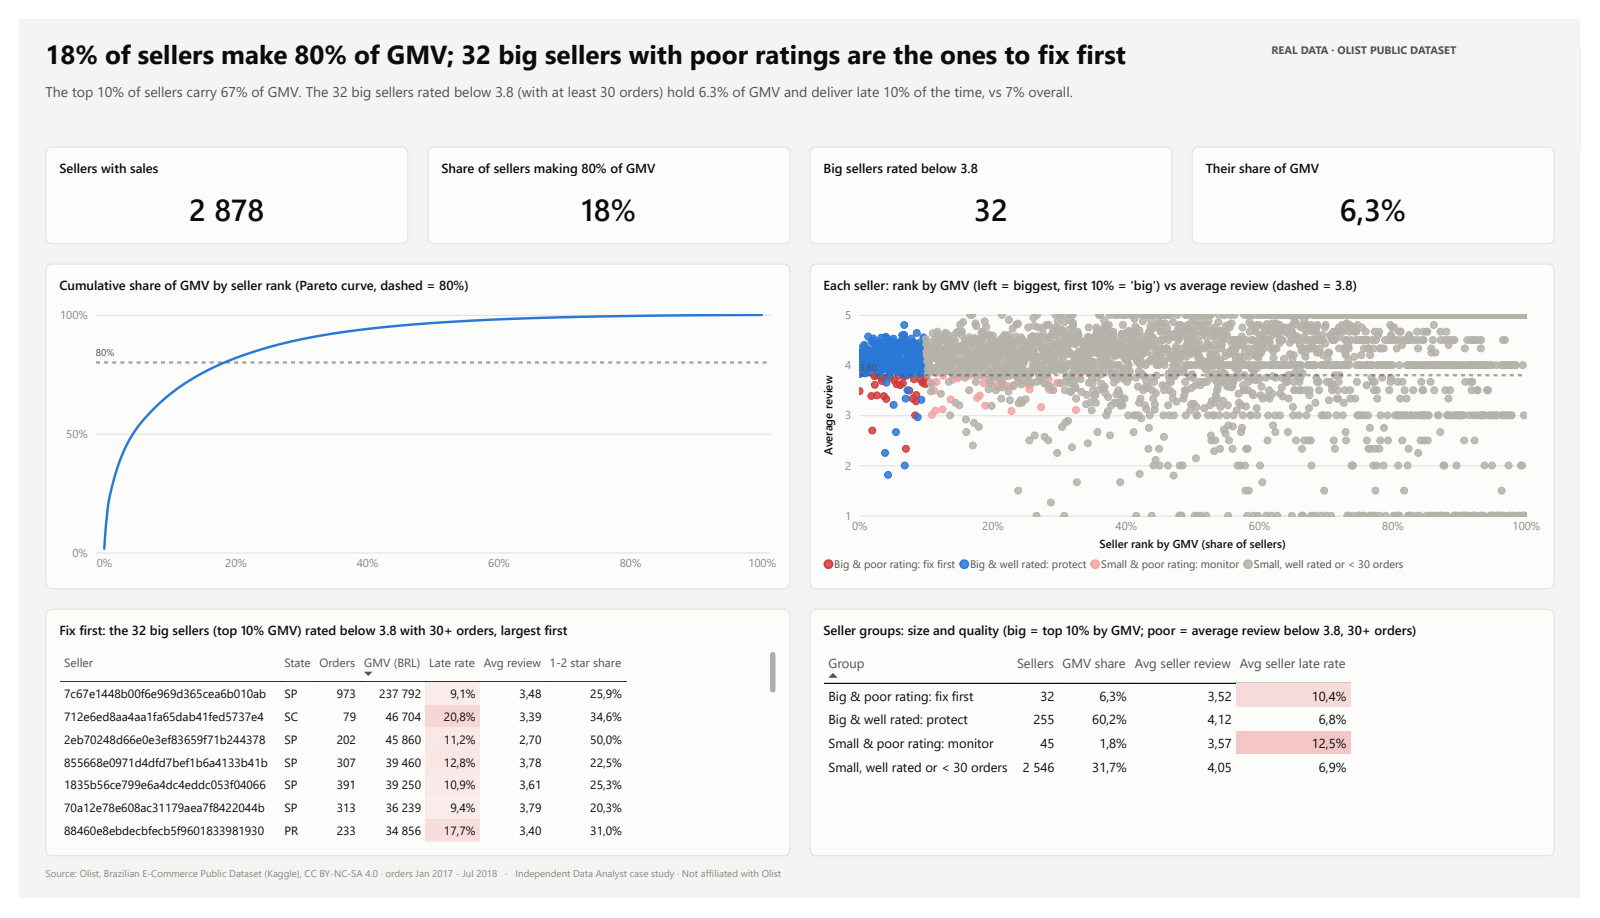

Layout of this report page (visuals, bound fields, positions):
{"tool":"powerbi","page":{"name":"3 · Sellers","canvas":[1920,1080],"ordinal":3},"visuals":[{"type":"textbox","box":[32,20,1500,56],"z":1000},{"type":"textbox","box":[1540,28,348,40],"z":2000},{"type":"textbox","box":[32,76,1856,64],"z":3000},{"type":"card","title":"Sellers with sales","fields":{"Values":["_Measures.Active Sellers"]},"box":[32,156,446,120],"z":4000},{"type":"card","title":"Share of sellers making 80% of GMV","fields":{"Values":["_Measures.Sellers Making 80% of GMV"]},"box":[502,156,446,120],"z":5000},{"type":"card","title":"Big sellers rated below 3.8","fields":{"Values":["_Measures.Fix-first Sellers"]},"box":[972,156,446,120],"z":6000},{"type":"card","title":"Their share of GMV","fields":{"Values":["_Measures.Fix-first GMV Share"]},"box":[1442,156,446,120],"z":7000},{"type":"lineChart","title":"Cumulative share of GMV by seller rank (Pareto curve, dashed = 80%)","fields":{"Category":["Sellers.seller_percentile"],"Y":["_Measures.Cumulative GMV Share"]},"box":[32,300,916,400],"z":8000},{"type":"scatterChart","title":"Each seller: rank by GMV (left = biggest, first 10% = ''big'') vs average review (dashed = 3.8)","fields":{"Category":["Sellers.seller_id"],"Series":["Sellers.quadrant"],"X":["Min(Sellers.seller_percentile)"],"Y":["Avg(Sellers.avg_review)"]},"box":[972,300,916,400],"z":9000},{"type":"tableEx","title":"Fix first: the 32 big sellers (top 10% GMV) rated below 3.8 with 30+ orders, largest first","fields":{"Values":["Sellers.seller_id","Sellers.state","Sellers.orders","Sellers.gmv","Sellers.late_rate","Sellers.avg_review","Sellers.share_1_2_stars"]},"box":[32,724,916,304],"z":10000},{"type":"tableEx","title":"Seller groups: size and quality (big = top 10% by GMV; poor = average review below 3.8, 30+ orders)","fields":{"Values":["Seller Quadrants.quadrant","Seller Quadrants.sellers","Seller Quadrants.gmv_share","Seller Quadrants.avg_review","Seller Quadrants.late_rate"]},"box":[972,724,916,304],"z":11000},{"type":"textbox","box":[32,1040,1856,32],"z":12000}]}

Visuals, with their boxes in screenshot pixels (x1, y1, x2, y2), scaled from the page's 1920x1080 canvas onto the 1600x918 screenshot:
textbox: 27, 17, 1277, 65
textbox: 1283, 24, 1573, 58
textbox: 27, 65, 1573, 119
"Sellers with sales" card: 27, 133, 398, 235
"Share of sellers making 80% of GMV" card: 418, 133, 790, 235
"Big sellers rated below 3.8" card: 810, 133, 1182, 235
"Their share of GMV" card: 1202, 133, 1573, 235
"Cumulative share of GMV by seller rank (Pareto curve, dashed = 80%)" lineChart: 27, 255, 790, 595
"Each seller: rank by GMV (left = biggest, first 10% = ''big'') vs average review (dashed = 3.8)" scatterChart: 810, 255, 1573, 595
"Fix first: the 32 big sellers (top 10% GMV) rated below 3.8 with 30+ orders, largest first" tableEx: 27, 615, 790, 874
"Seller groups: size and quality (big = top 10% by GMV; poor = average review below 3.8, 30+ orders)" tableEx: 810, 615, 1573, 874
textbox: 27, 884, 1573, 911
